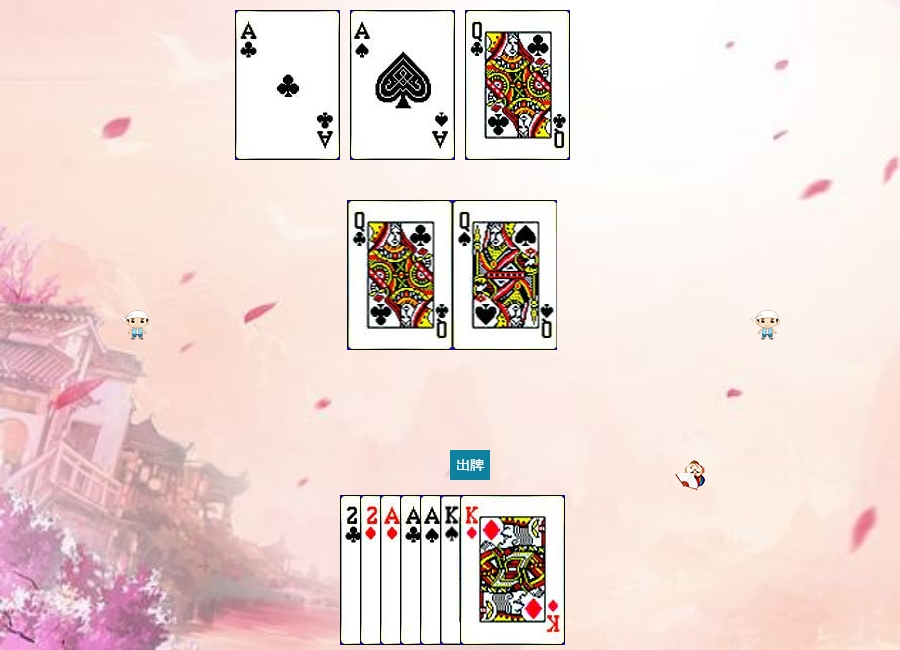12~2: (465, 10, 570, 160), (348, 200, 453, 350)
12~4: (453, 200, 558, 350)
13~1: (460, 495, 565, 645)
13~4: (440, 495, 545, 645)
14~1: (380, 495, 485, 645)
14~2: (235, 10, 340, 160), (400, 495, 505, 645)
14~4: (350, 10, 455, 160), (420, 495, 525, 645)
15~1: (360, 495, 465, 645)
15~2: (340, 495, 445, 645)
